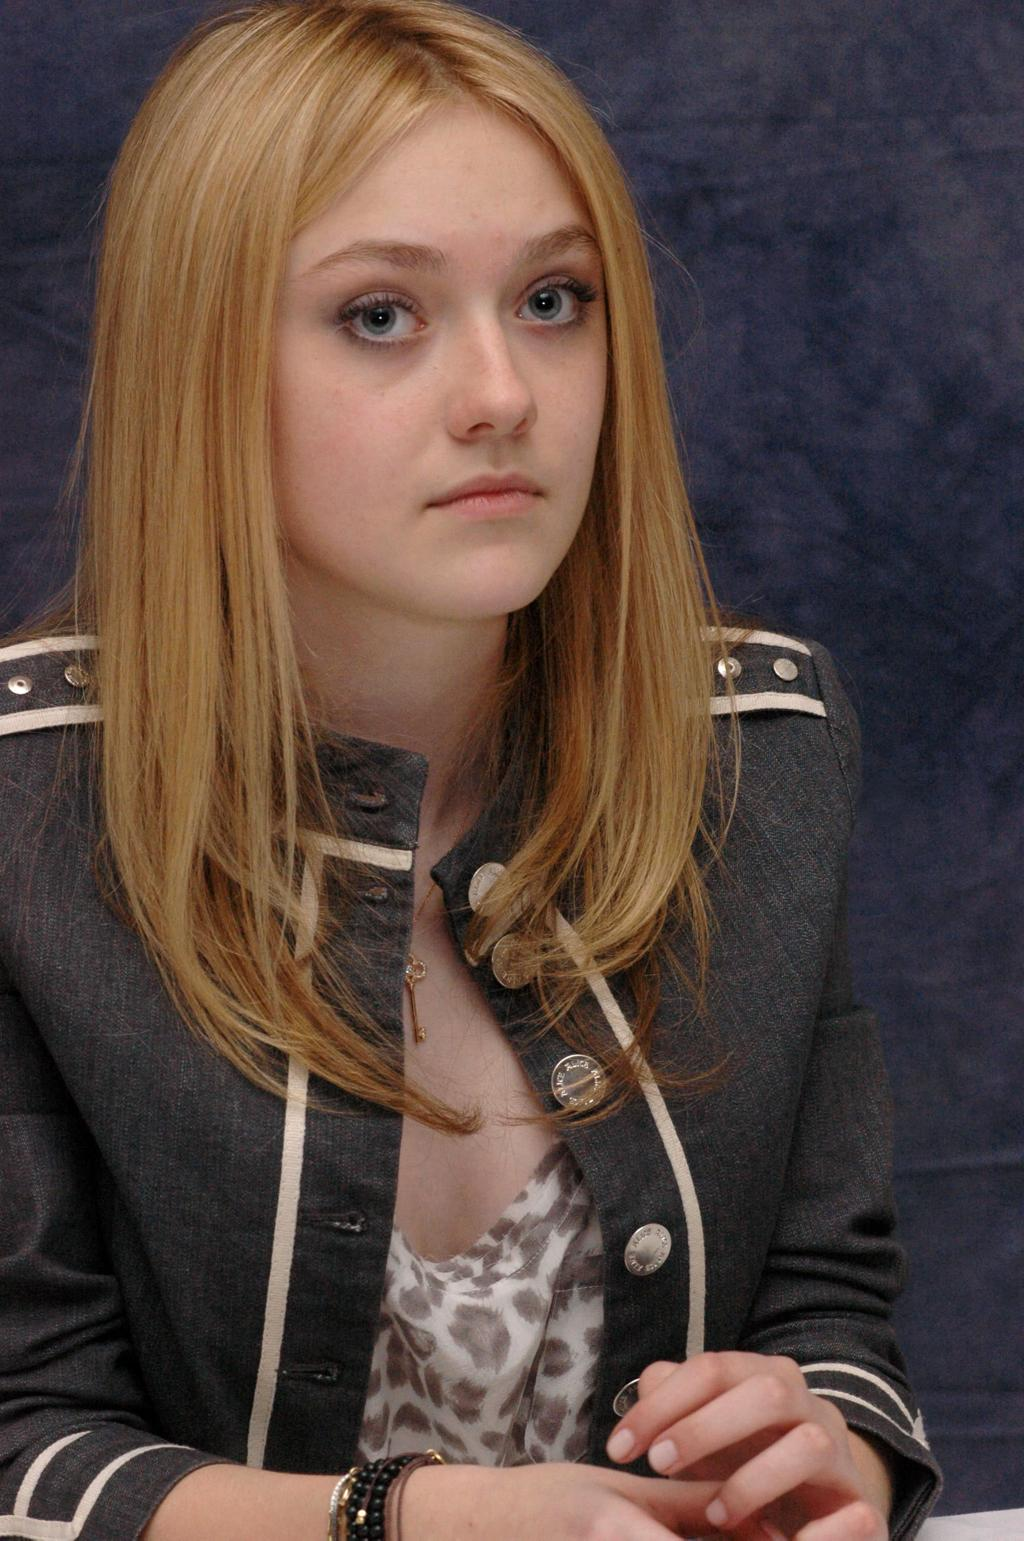face: (268, 96, 611, 617)
